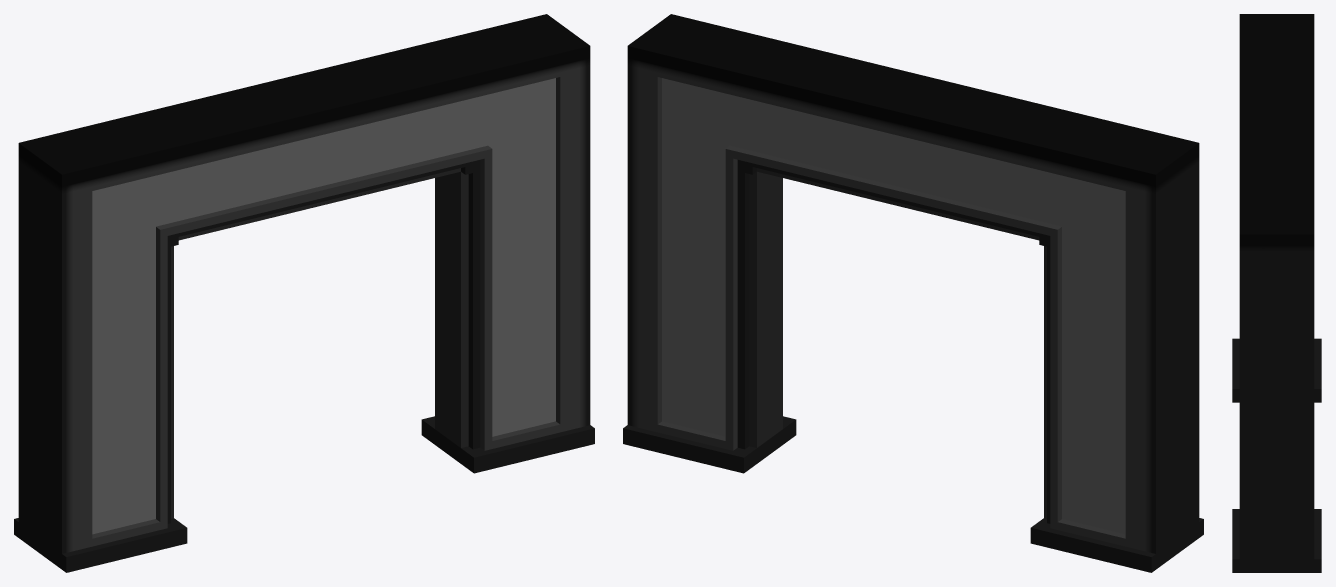
Rendered from Door-Stone-Model-01.fbx.
The picture shows the model from 3 angles, left to right: view 1: azimuth 30°, elevation 25°; view 2: azimuth 150°, elevation 25°; view 3: azimuth 270°, elevation 25°; orthographic projection. The views are drawn at different scales.
Visible parts, largest first — view 1: Door-Stone-Model-01; view 2: Door-Stone-Model-01; view 3: Door-Stone-Model-01.
Part boxes in pixels (<box>): Door-Stone-Model-01: <box>14,14,594,572</box>; Door-Stone-Model-01: <box>623,14,1203,572</box>; Door-Stone-Model-01: <box>1232,14,1321,572</box>.
Size of the model in its own units: 70 by 50 by 12.
Materials: 1 (1 with a texture image).
